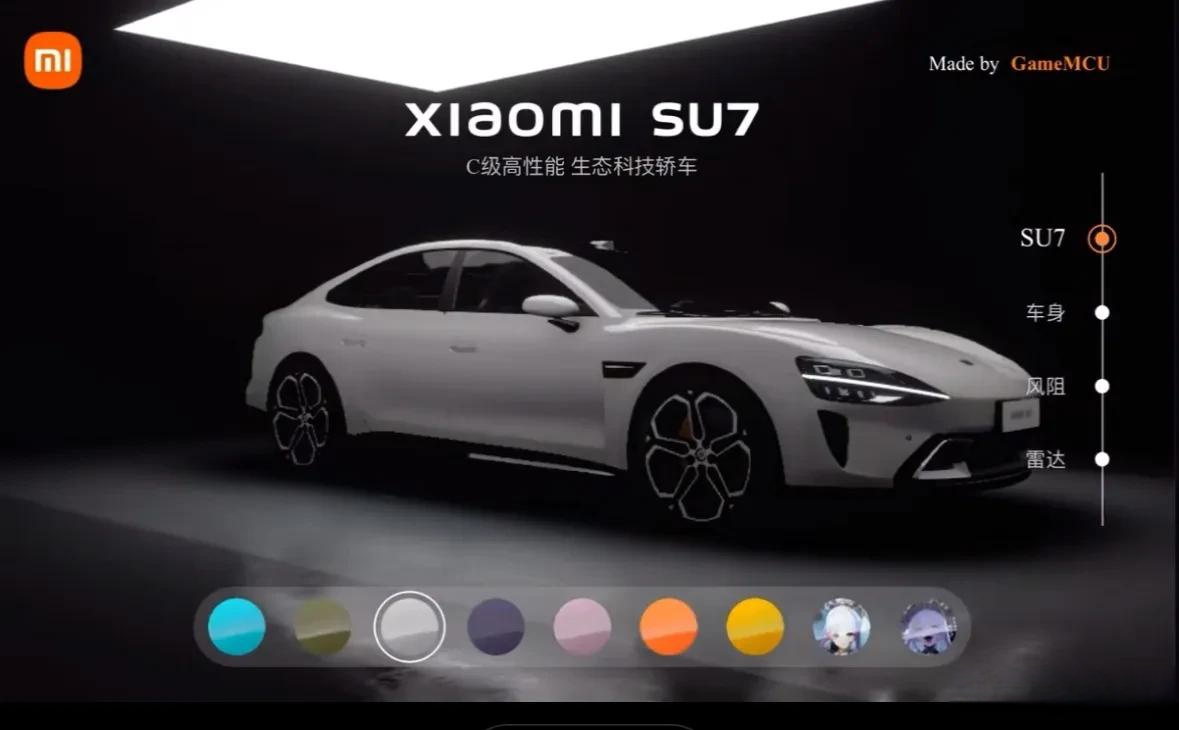su7: (242, 231, 1047, 520)
